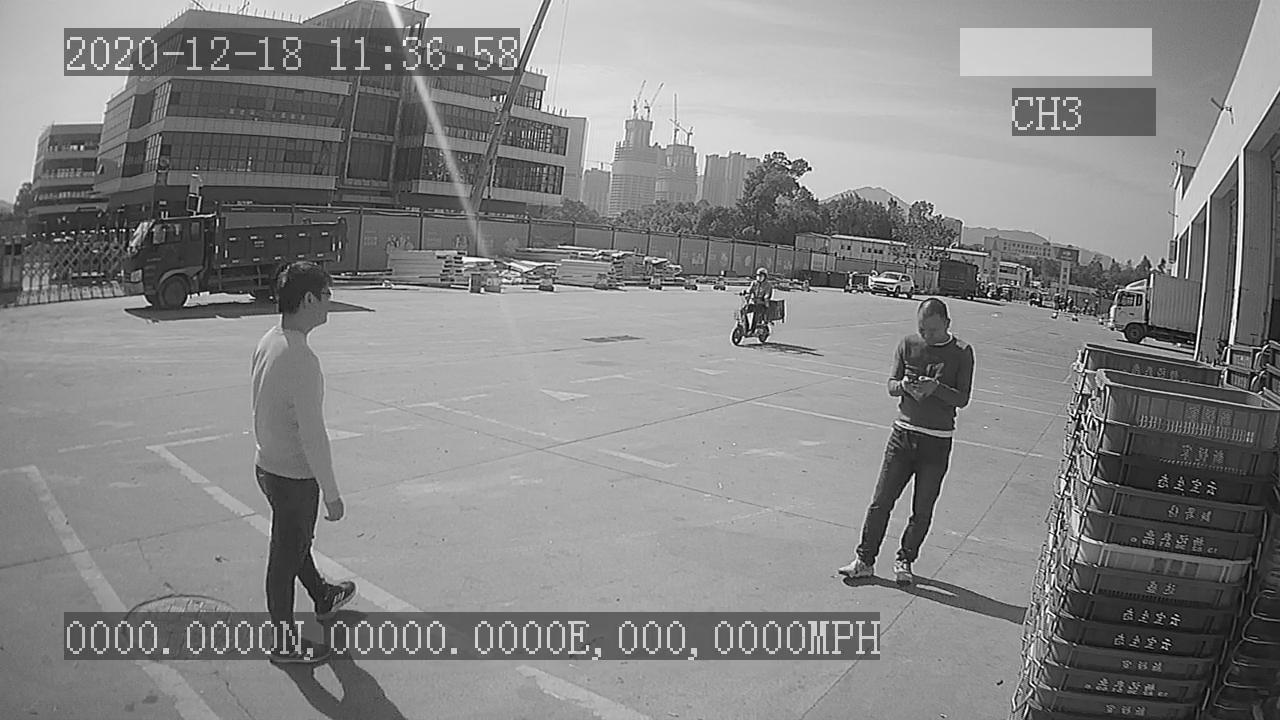person: (839, 298, 975, 588)
